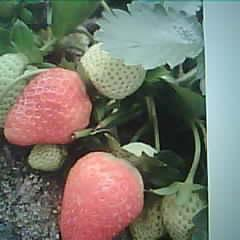straw-ripe: (61, 152, 145, 240), (5, 68, 92, 145)
straw-unripe: (81, 42, 146, 99), (161, 185, 207, 240), (28, 142, 64, 171)
